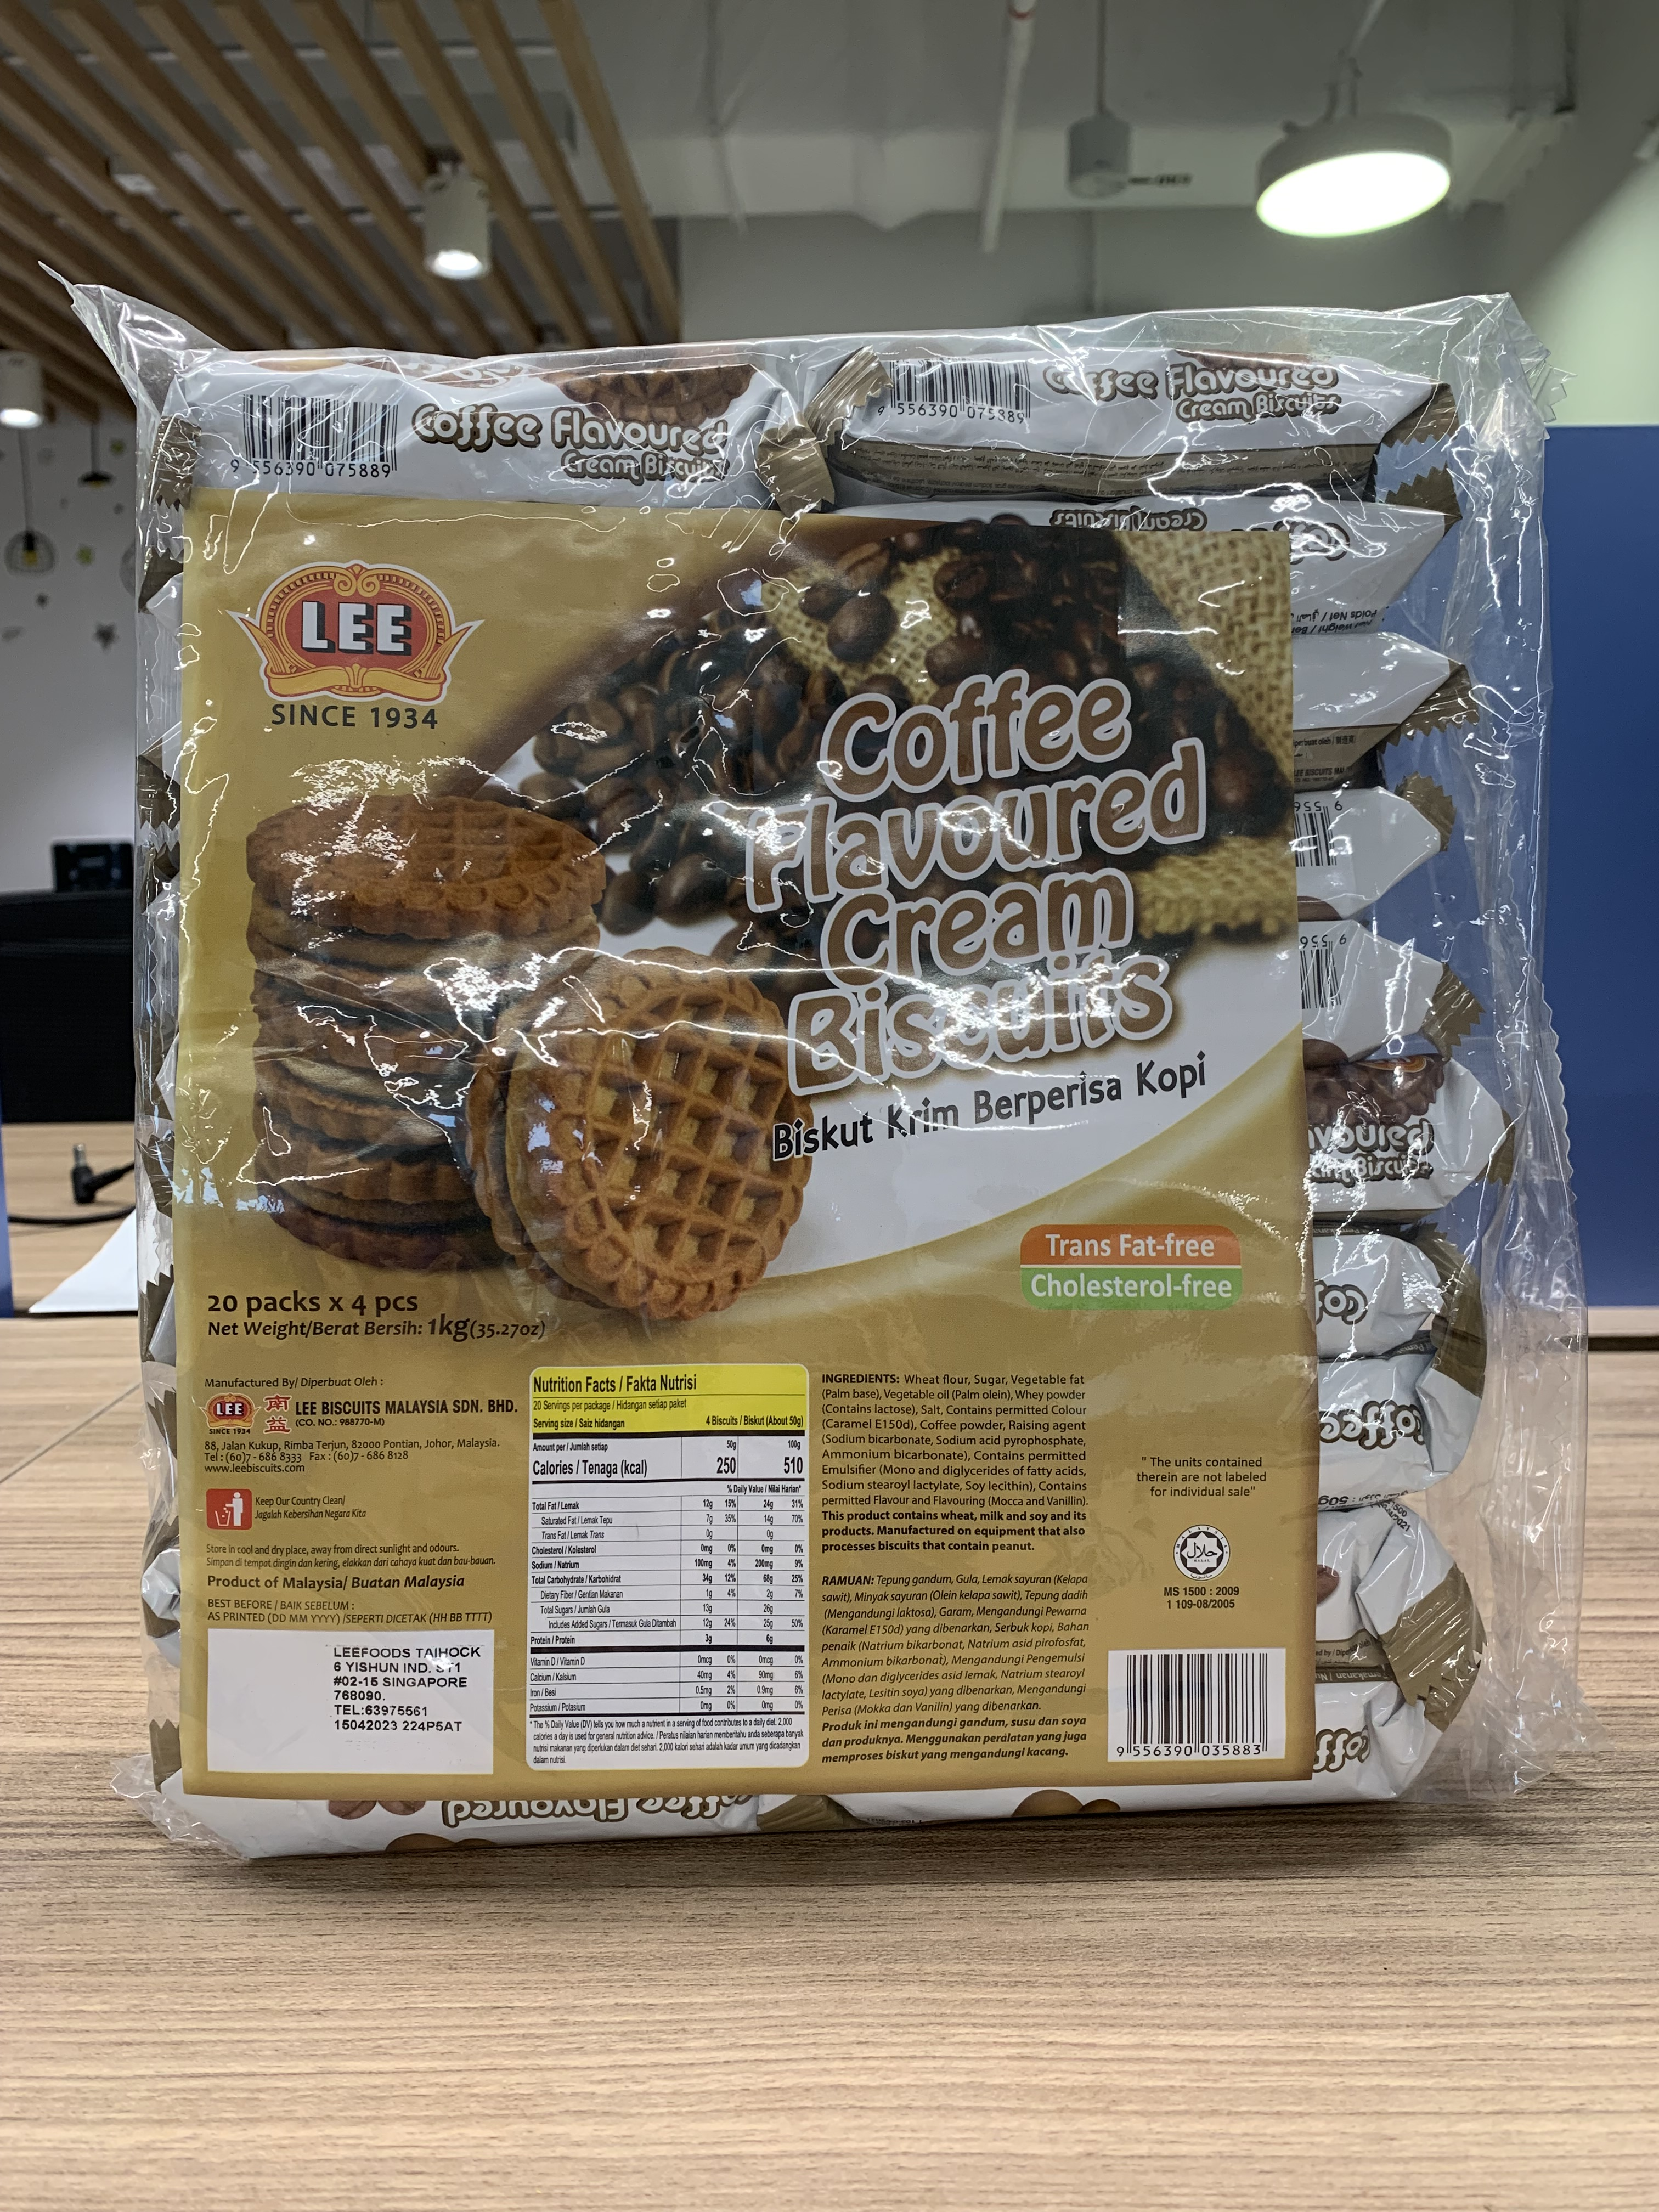halal: (1173, 1524, 1227, 1578)
